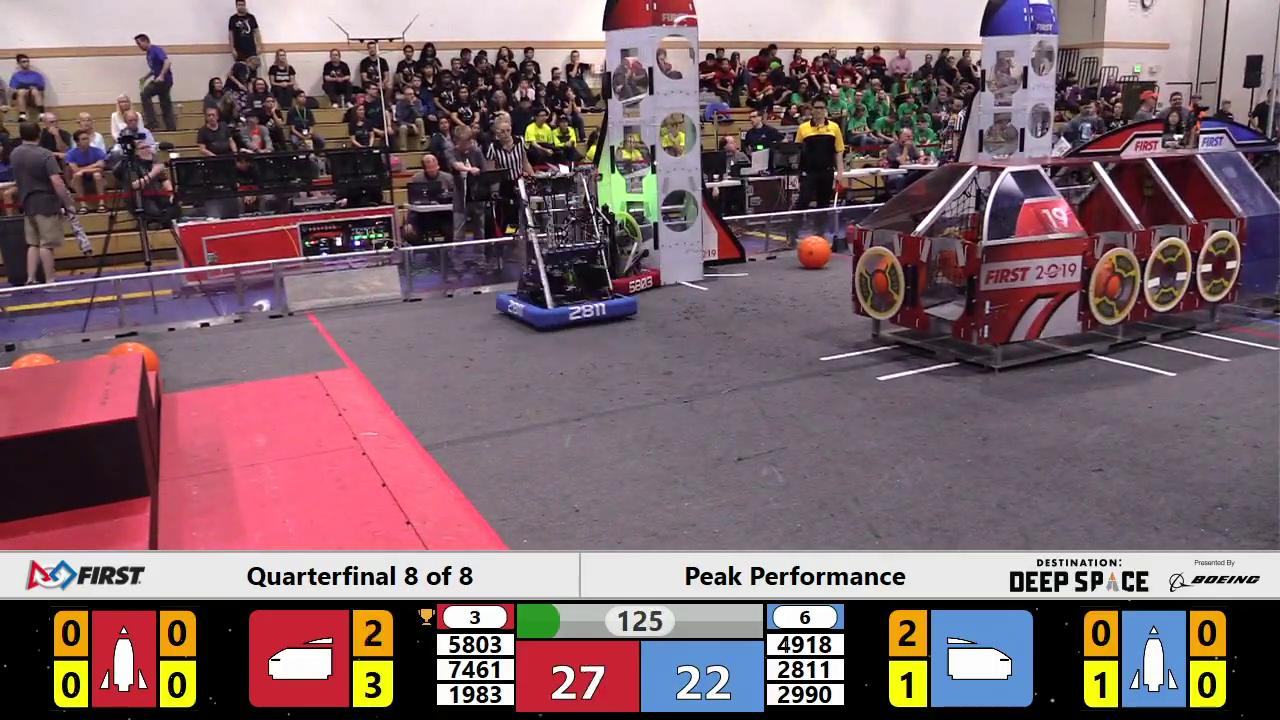robot: (493, 164, 637, 332), (587, 198, 666, 300)
